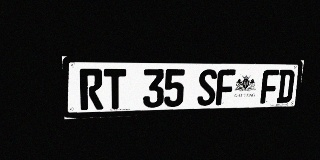3: (143, 69, 164, 108)
5: (164, 69, 185, 107)
D: (276, 70, 295, 103)
F: (216, 69, 236, 105), (260, 70, 279, 104)
R: (79, 69, 103, 110)
S: (197, 69, 217, 106)
T: (104, 69, 126, 109)
